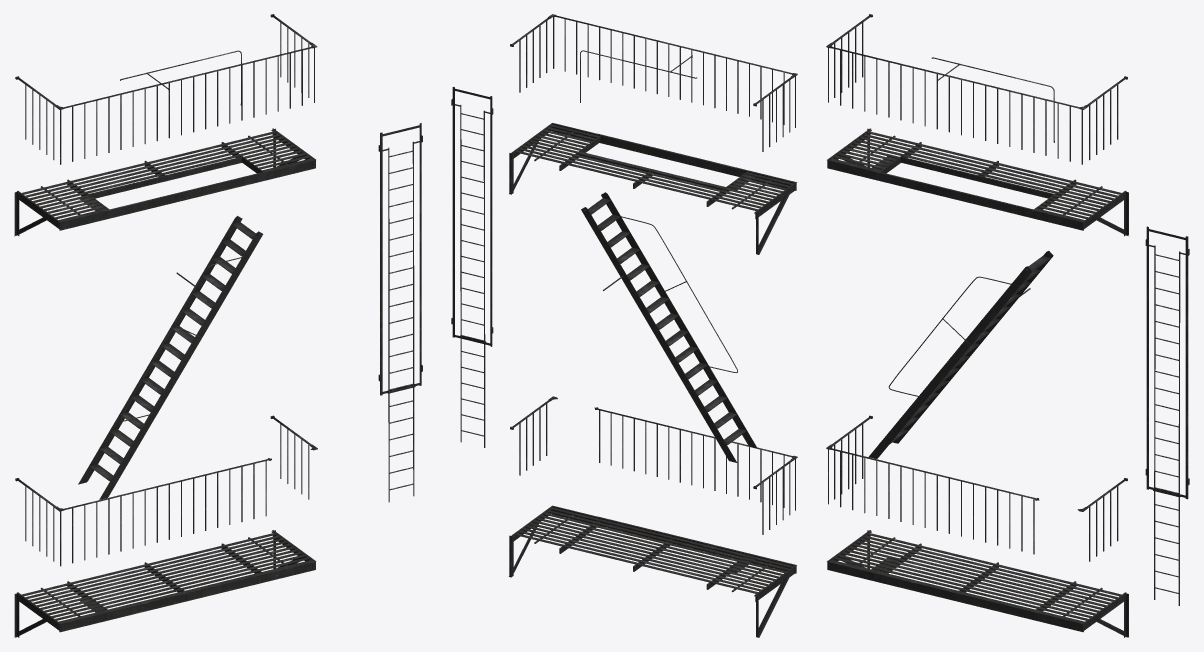
File: modular_fire_escape.gltf
3 renders of one model, left to right at view 1: azimuth 30°, elevation 25°; view 2: azimuth 150°, elevation 25°; view 3: azimuth 330°, elevation 25°, orthographic. The views are drawn at different scales.
Visible parts, largest first — view 1: modular_fire_escape_platform_bottom, modular_fire_escape_platform_middle, modular_fire_escape_stairs, modular_fire_escape_railing_middle, modular_fire_escape_ladder_bottom, modular_fire_escape_railing_bottom; view 2: modular_fire_escape_platform_bottom, modular_fire_escape_platform_middle, modular_fire_escape_stairs, modular_fire_escape_railing_middle, modular_fire_escape_ladder_bottom, modular_fire_escape_railing_bottom; view 3: modular_fire_escape_platform_bottom, modular_fire_escape_platform_middle, modular_fire_escape_ladder_bottom, modular_fire_escape_stairs, modular_fire_escape_railing_middle, modular_fire_escape_railing_bottom.
Boxes of the visible parts, x1=… form: modular_fire_escape_platform_bottom: x1=14, y1=530, x2=316, y2=637; modular_fire_escape_platform_middle: x1=14, y1=128, x2=315, y2=236; modular_fire_escape_stairs: x1=78, y1=216, x2=263, y2=499; modular_fire_escape_railing_middle: x1=15, y1=14, x2=317, y2=164; modular_fire_escape_ladder_bottom: x1=378, y1=123, x2=422, y2=502; modular_fire_escape_railing_bottom: x1=15, y1=415, x2=317, y2=566; modular_fire_escape_platform_bottom: x1=509, y1=505, x2=796, y2=637; modular_fire_escape_platform_middle: x1=509, y1=123, x2=796, y2=254; modular_fire_escape_stairs: x1=581, y1=192, x2=757, y2=462; modular_fire_escape_railing_middle: x1=510, y1=14, x2=797, y2=151; modular_fire_escape_ladder_bottom: x1=451, y1=87, x2=493, y2=447; modular_fire_escape_railing_bottom: x1=510, y1=396, x2=797, y2=534; modular_fire_escape_platform_bottom: x1=827, y1=530, x2=1128, y2=637; modular_fire_escape_platform_middle: x1=827, y1=128, x2=1128, y2=236; modular_fire_escape_ladder_bottom: x1=1145, y1=226, x2=1189, y2=605; modular_fire_escape_stairs: x1=868, y1=251, x2=1053, y2=458; modular_fire_escape_railing_middle: x1=826, y1=14, x2=1127, y2=164; modular_fire_escape_railing_bottom: x1=826, y1=415, x2=1127, y2=561.
Size of the model in its own units: 6.66 by 9.76 by 1.42.
3 materials, 3 textured.
